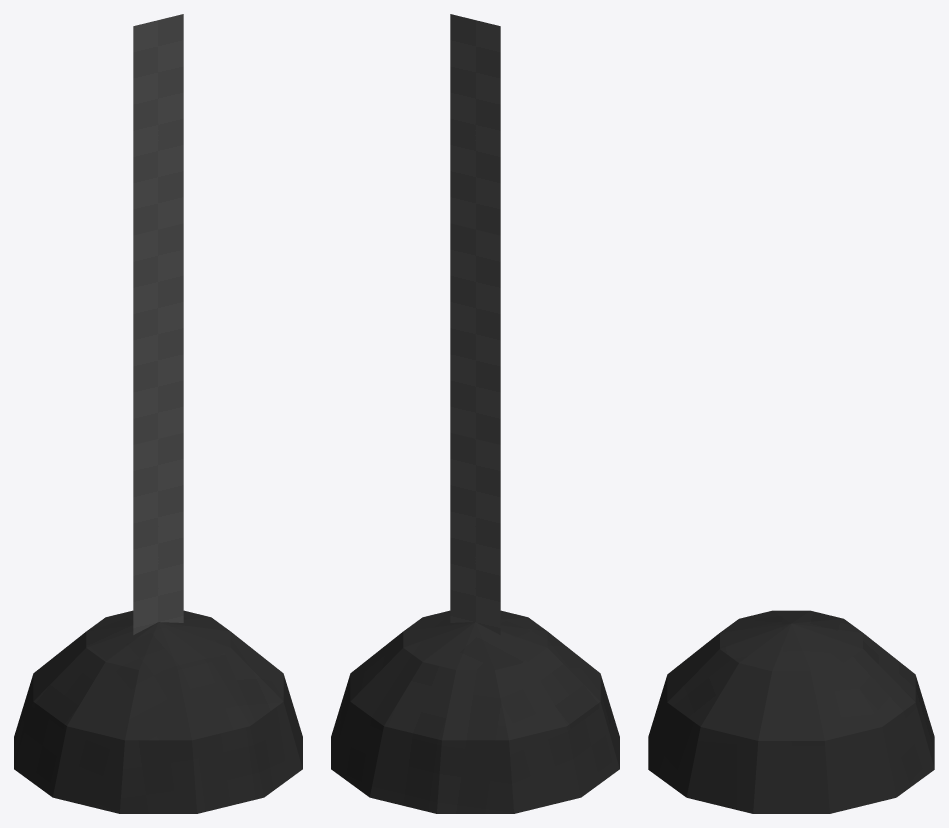
Rendered from LightbulbA.fbx.
The picture shows the model from 3 angles, left to right: view 1: azimuth 30°, elevation 25°; view 2: azimuth 150°, elevation 25°; view 3: azimuth 270°, elevation 25°; orthographic projection.
Visible parts, largest first — view 1: sphere, plane_1, plane, plane_2; view 2: sphere, plane_1, plane, plane_2; view 3: sphere.
Boxes of the visible parts, bbox=[...] form: sphere: bbox=[14, 610, 302, 813]; plane_1: bbox=[133, 223, 183, 444]; plane: bbox=[133, 14, 183, 235]; plane_2: bbox=[133, 433, 183, 634]; sphere: bbox=[331, 610, 619, 813]; plane_1: bbox=[450, 223, 500, 444]; plane: bbox=[450, 14, 500, 235]; plane_2: bbox=[450, 433, 500, 634]; sphere: bbox=[648, 610, 934, 813].
Size of the model in its own units: 62.5 by 188 by 62.5.
Materials: 1 (1 with a texture image).
